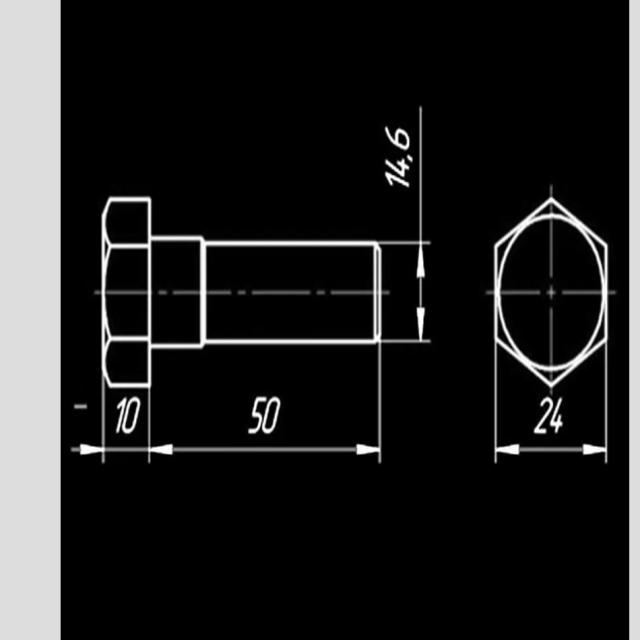marking_line: (149, 438, 378, 458), (499, 440, 606, 460), (415, 248, 427, 333), (73, 443, 103, 458)
numeric: (383, 126, 414, 192), (244, 391, 281, 440), (530, 394, 569, 438), (111, 393, 140, 440)
